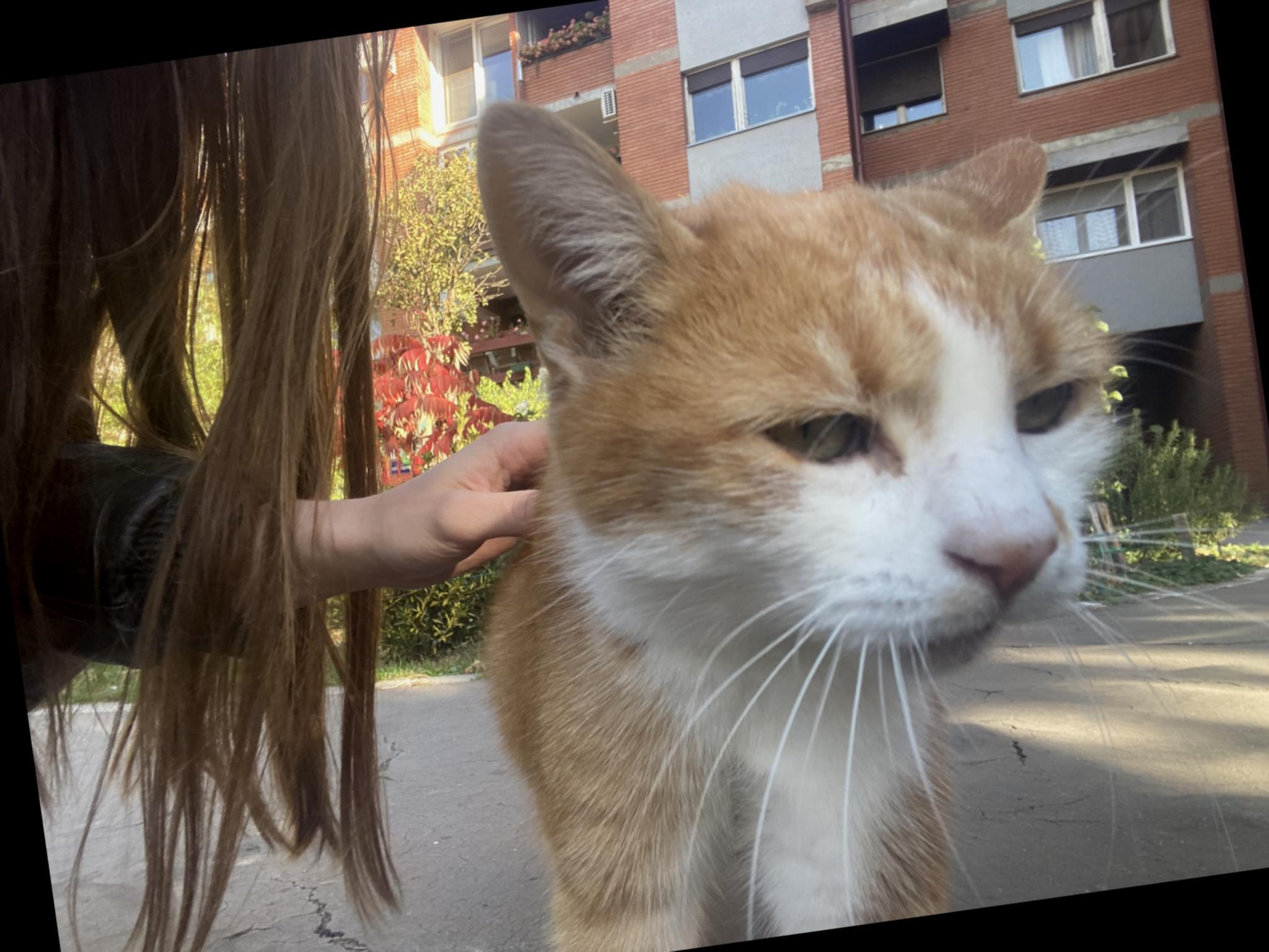macka: (406, 20, 1188, 952)
